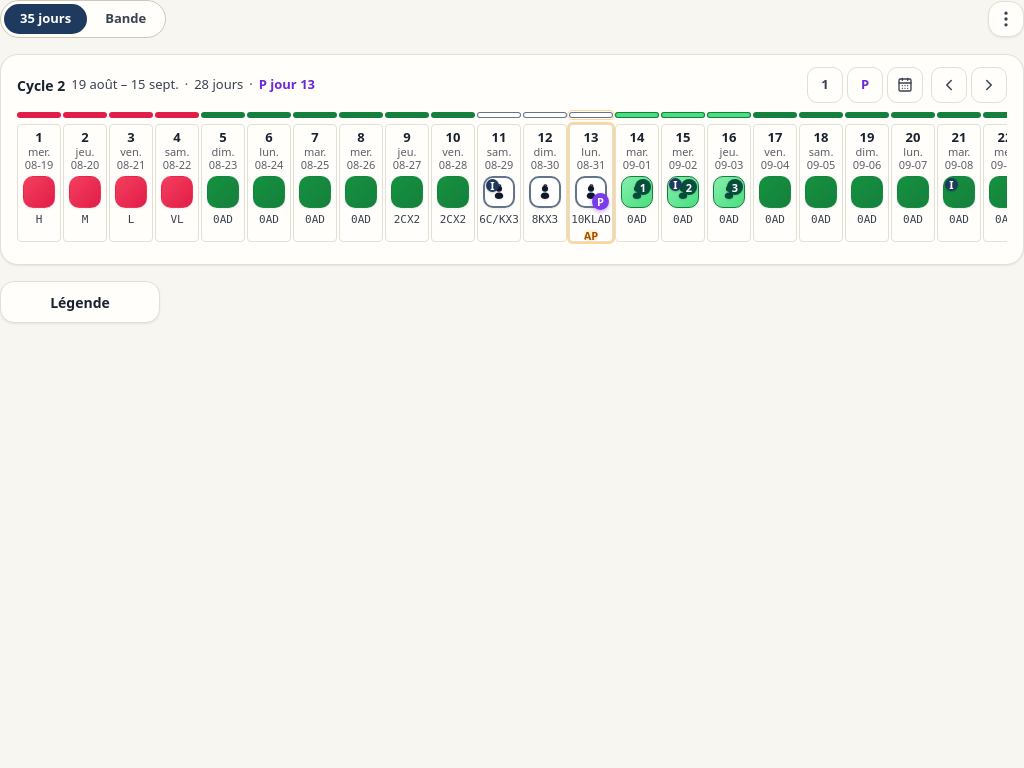
it: French text of the components › translates the chart strip, its cells, popover, phases and legend
The image size is (1024, 768).
Expected: the button named "Défiler vers la gauche" is shown, [931,67,967,103]
Expected: the button named "Défiler vers la droite" is shown, [971,67,1007,103]
Hover over the button with aria-label "Jour du cycle 1, ": coordinates (39, 183) [17,124,61,242]
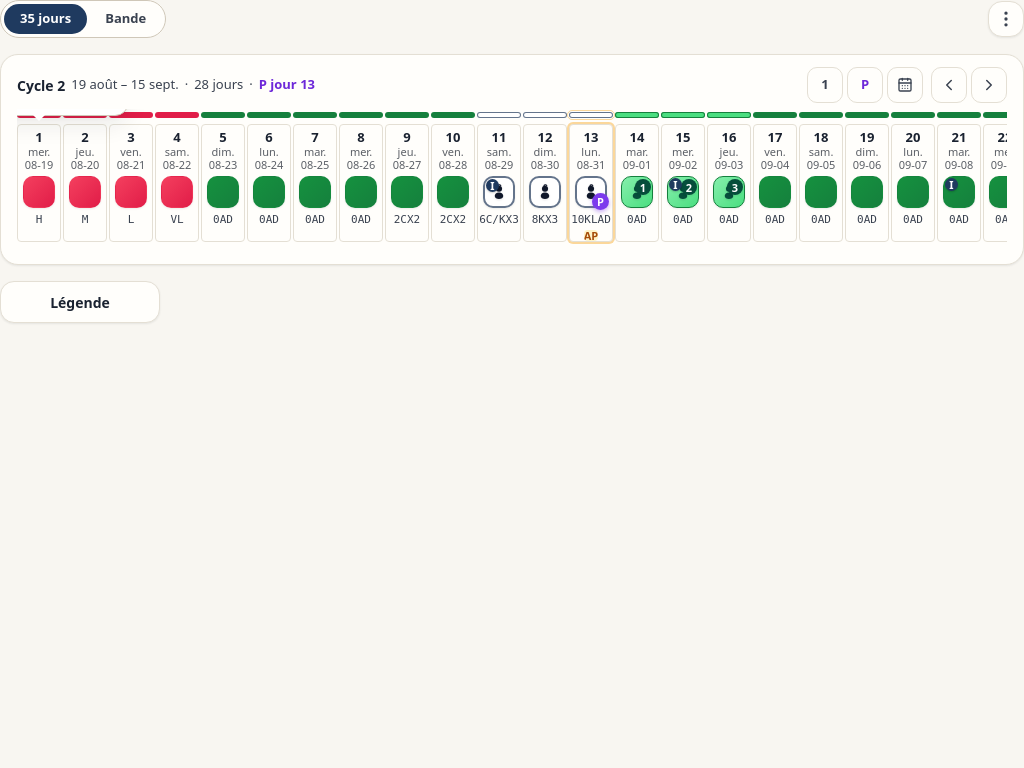
Click the button named "Options du graphique": coordinates (1006, 19) [988,1,1023,37]
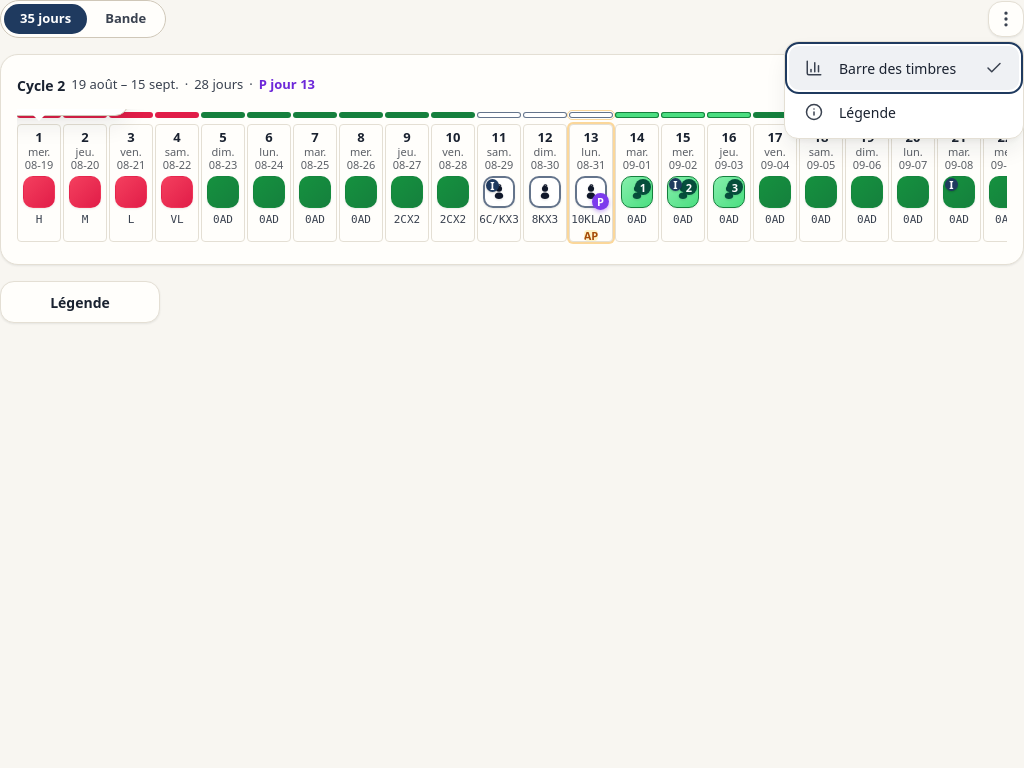
Expected: the menu item "Barre des timbres" is shown, [789,46,1019,90]
Press Escape in the menu, box [789,46,1019,134]
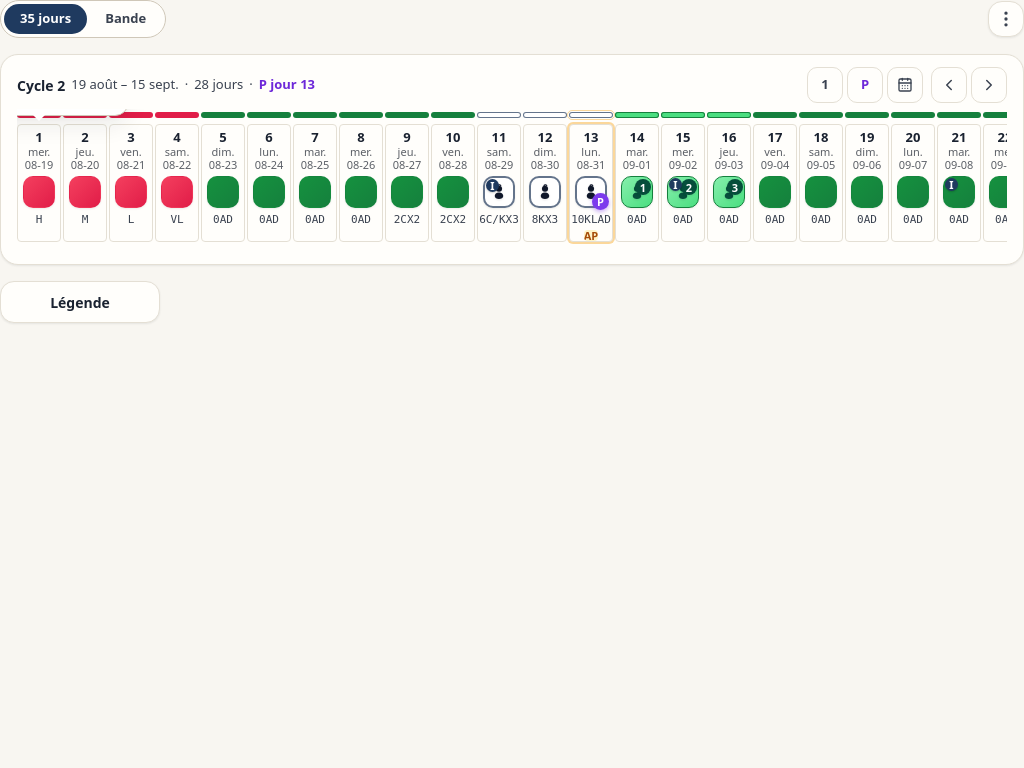
Expected: the menu is gone
Click the button "Légende": coordinates (80, 302) [0,281,160,323]
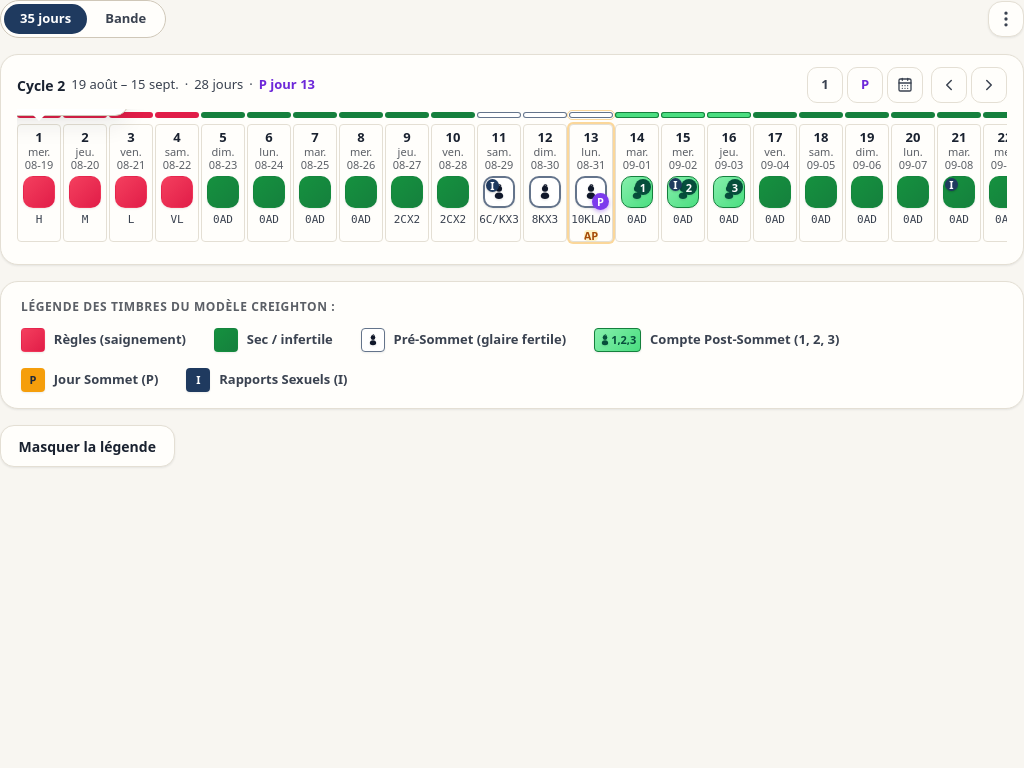
Expected: the text "Légende des timbres du Modèle Creighton :" is shown, [21,298,335,315]
Expected: the text "Jour Sommet (P)" is shown, [54,370,158,390]
